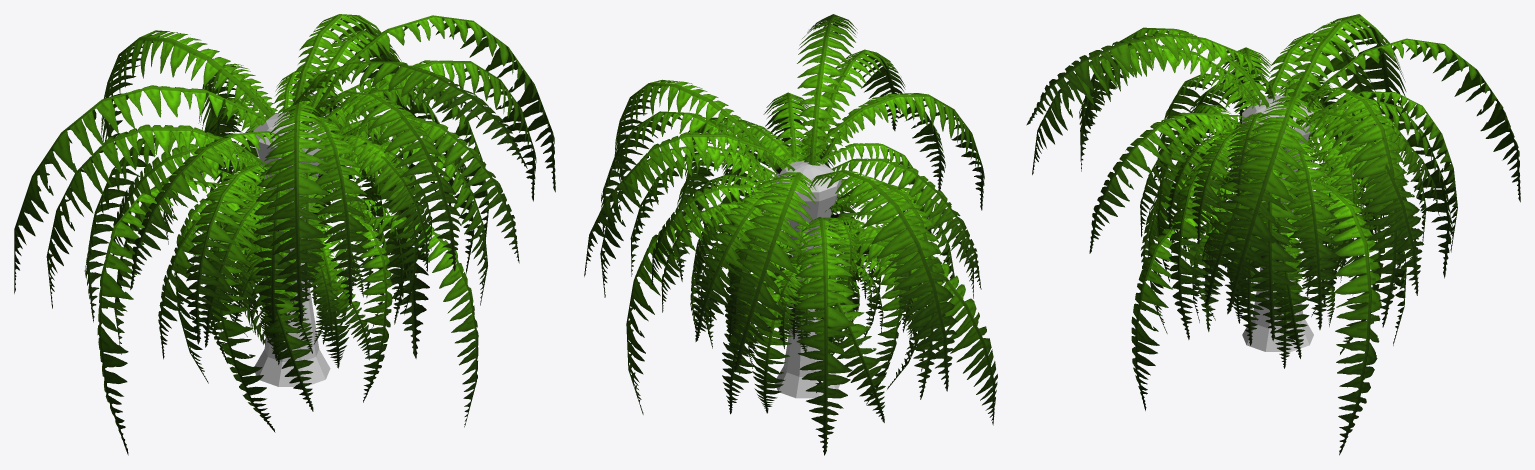
File: Small trees.FBX
The picture shows the model from 3 angles, left to right: view 1: azimuth 30°, elevation 25°; view 2: azimuth 150°, elevation 25°; view 3: azimuth 270°, elevation 25°; orthographic projection. The views are drawn at different scales.
Parts seen in each view (by area): view 1: Cylinder017, Cylinder016, Cylinder015, Middle colum; view 2: Cylinder017, Cylinder016, Middle colum, Cylinder015; view 3: Cylinder017, Cylinder016, Middle colum, Cylinder015.
Boxes of the visible parts, <box> form: Cylinder017: <box>14,14,555,455</box>; Cylinder016: <box>112,71,480,411</box>; Cylinder015: <box>192,185,383,364</box>; Middle colum: <box>253,112,330,386</box>; Cylinder017: <box>584,14,997,455</box>; Cylinder016: <box>651,117,973,414</box>; Middle colum: <box>774,160,840,398</box>; Cylinder015: <box>712,234,893,392</box>; Cylinder017: <box>1026,14,1520,455</box>; Cylinder016: <box>1140,71,1439,368</box>; Middle colum: <box>1242,95,1313,351</box>; Cylinder015: <box>1171,169,1376,326</box>.
Size of the model in its own units: 238 by 195 by 237.
